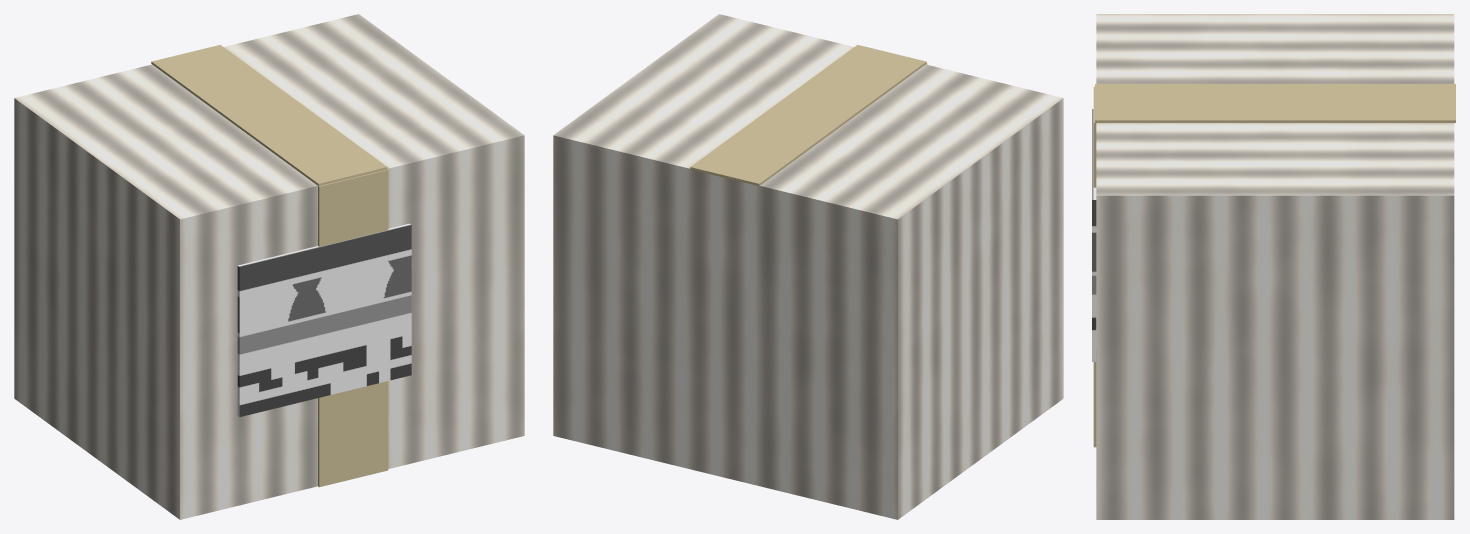
File: scatola_2.obj
The picture shows the model from 3 angles, left to right: view 1: azimuth 30°, elevation 25°; view 2: azimuth 150°, elevation 25°; view 3: azimuth 270°, elevation 25°; orthographic projection. The views are drawn at different scales.
Visible parts, largest first — view 1: cartone_000, stampa_a_002, liscio_001; view 2: cartone_000, liscio_001; view 3: cartone_000, liscio_001, stampa_a_002.
Part boxes in pixels (x1,y1,x2,y2): cartone_000: (14,14,524,519); stampa_a_002: (237,223,411,417); liscio_001: (151,44,388,487); cartone_000: (553,14,1063,519); liscio_001: (690,44,927,186); cartone_000: (1096,14,1454,519); liscio_001: (1093,84,1455,447); stampa_a_002: (1092,109,1096,361).
Bounding box in the file's own units: 0.3 × 0.252 × 0.254.
3 materials, 2 textured.
